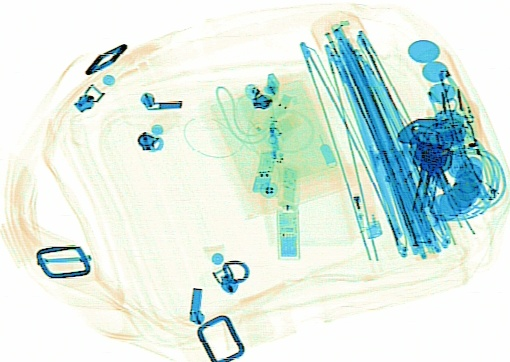lighter: (343, 162, 383, 239)
